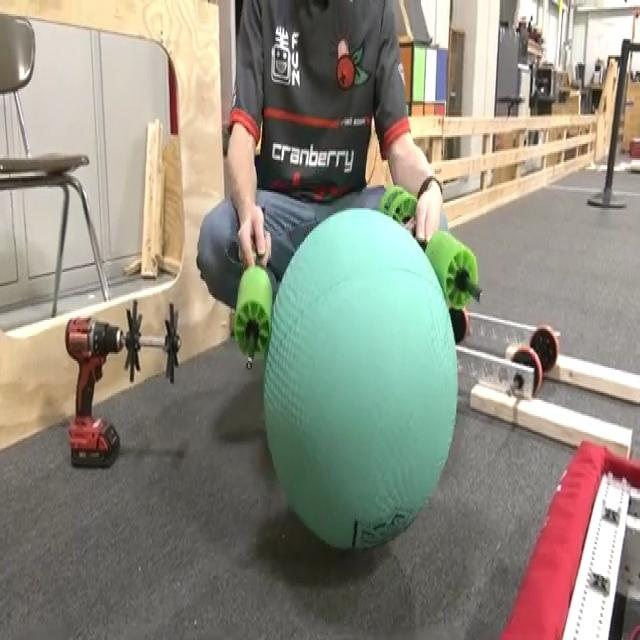Algae: (261, 205, 459, 551)
